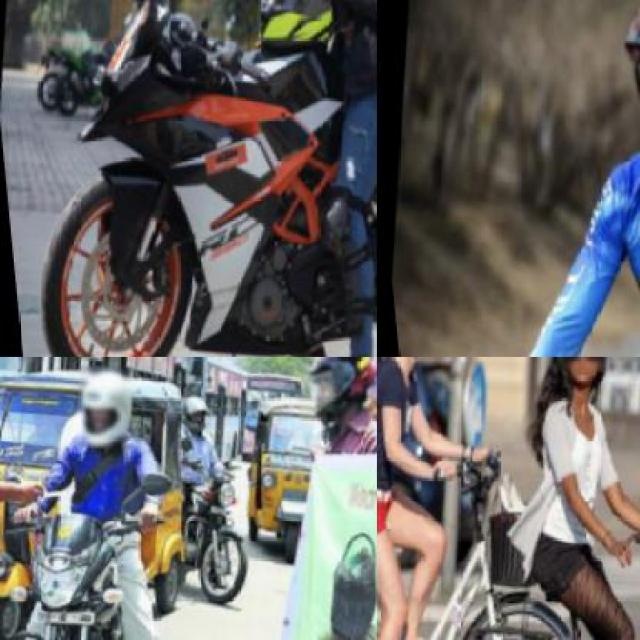With Helmet: (283, 357, 375, 448), (598, 0, 638, 182), (64, 365, 136, 460), (170, 390, 213, 447)
Without Helmet: (548, 357, 614, 383)
